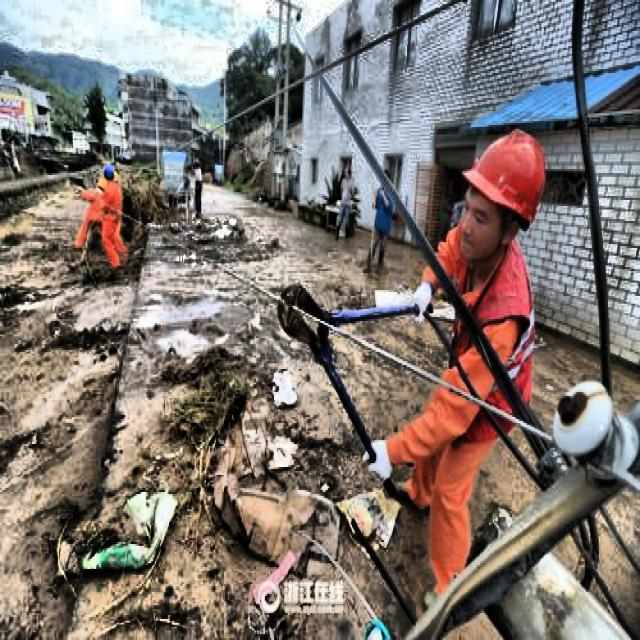helmet: (454, 117, 558, 273), (101, 162, 117, 188)
